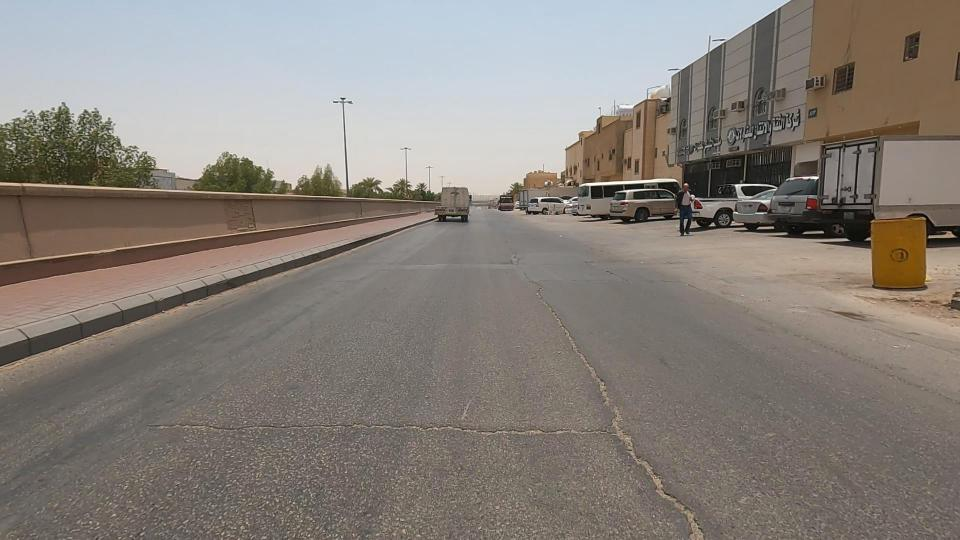POTHOLES: (546, 393, 732, 519), (537, 279, 649, 448)
